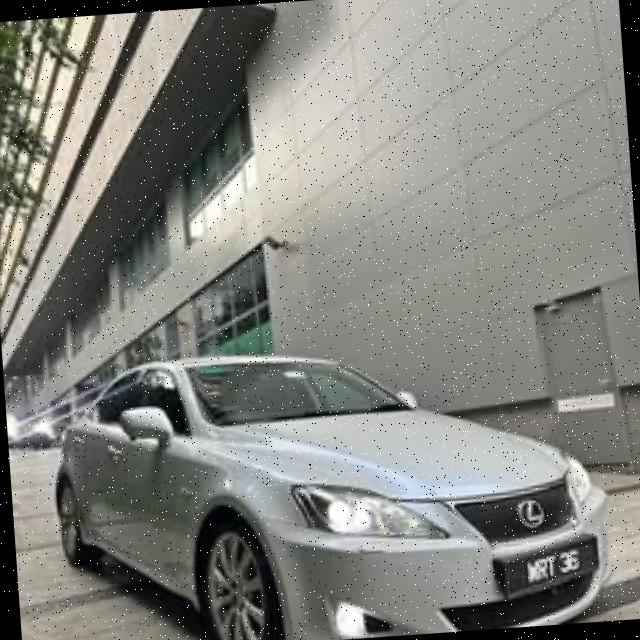License_Plate: (500, 534, 602, 600)
car: (43, 329, 615, 640)
